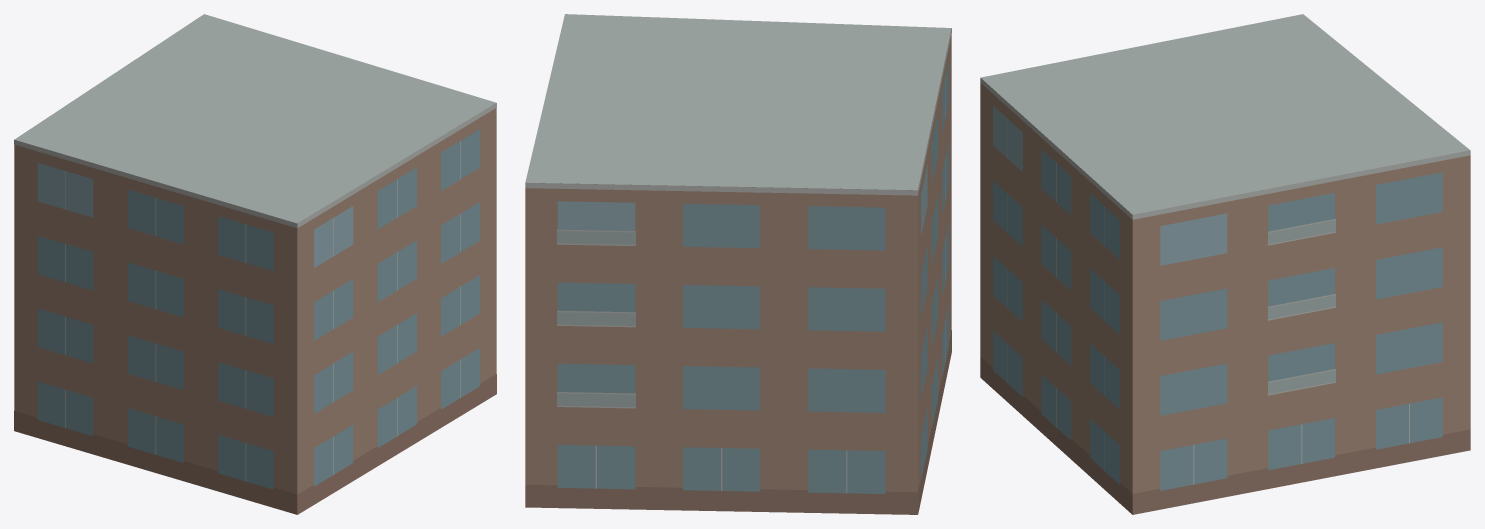
File: survey-upis-32741818.glb
3 renders of one model, left to right at view 1: azimuth 30°, elevation 25°; view 2: azimuth 150°, elevation 25°; view 3: azimuth 270°, elevation 25°, orthographic. The views are drawn at different scales.
Visible parts, largest first — view 1: survey-upis-32741818.tmp; view 2: survey-upis-32741818.tmp; view 3: survey-upis-32741818.tmp.
Part boxes in pixels (x1,y1,x2,y2): survey-upis-32741818.tmp: [14, 14, 496, 514]; survey-upis-32741818.tmp: [525, 14, 951, 514]; survey-upis-32741818.tmp: [980, 14, 1470, 514].
Bounding box in the file's own units: 21.11 × 14.7 × 21.77.
